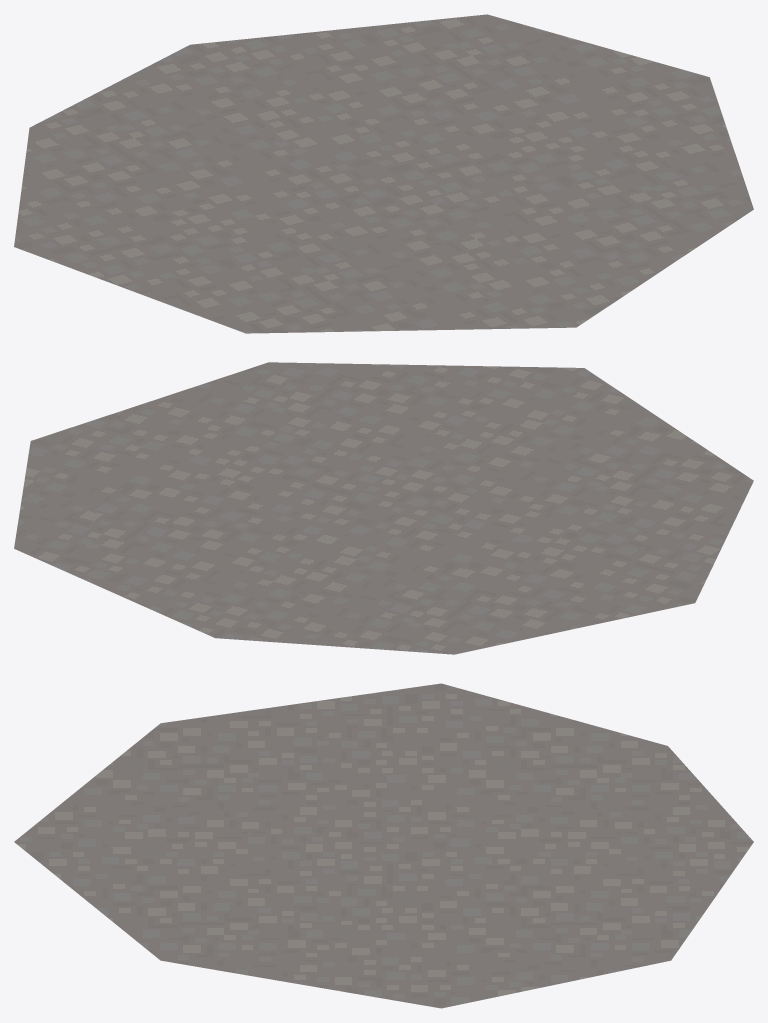
Rendered from kd_stage_135c43_4_29_bounded_piece_1.glb.
3 renders of one model, top to bottom at view 1: azimuth 30°, elevation 25°; view 2: azimuth 150°, elevation 25°; view 3: azimuth 270°, elevation 25°, orthographic. The views are drawn at different scales.
Visible parts, largest first — view 1: kd_stage_135c43_4_29_bounded_piece_1; view 2: kd_stage_135c43_4_29_bounded_piece_1; view 3: kd_stage_135c43_4_29_bounded_piece_1.
Part boxes in pixels (x1,y1,x2,y2): kd_stage_135c43_4_29_bounded_piece_1: [14, 14, 753, 333]; kd_stage_135c43_4_29_bounded_piece_1: [14, 362, 753, 654]; kd_stage_135c43_4_29_bounded_piece_1: [14, 683, 753, 1008].
Bounding box in the file's own units: 0.2054 × 0 × 0.1976.
1 material, 1 textured.
